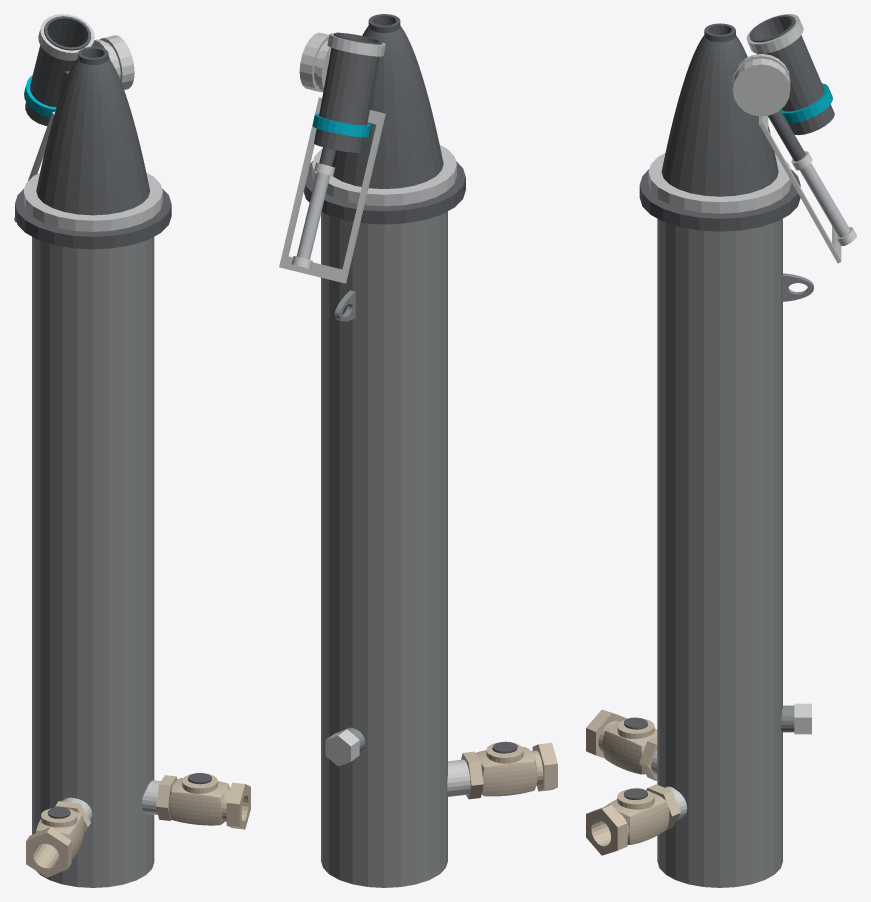
File: extreme-shooter.glb
The picture shows the model from 3 angles, left to right: view 1: azimuth 30°, elevation 25°; view 2: azimuth 150°, elevation 25°; view 3: azimuth 270°, elevation 25°; orthographic projection. The views are drawn at different scales.
Visible parts, largest first — view 1: Mesh_Mesh_head_geo.001_lambert2SG.001; view 2: Mesh_Mesh_head_geo.001_lambert2SG.001; view 3: Mesh_Mesh_head_geo.001_lambert2SG.001.
Boxes of the visible parts, x1,y1,x2,y2 form: Mesh_Mesh_head_geo.001_lambert2SG.001: [14, 14, 250, 887]; Mesh_Mesh_head_geo.001_lambert2SG.001: [279, 14, 557, 887]; Mesh_Mesh_head_geo.001_lambert2SG.001: [586, 14, 856, 887].
Bounding box in the file's own units: 124 × 432 × 126.
